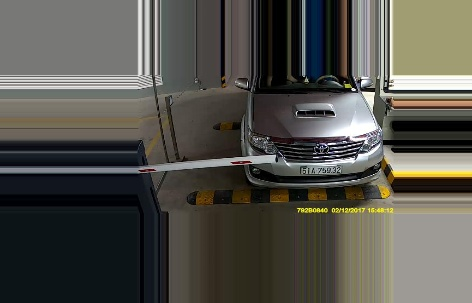plate: (299, 163, 343, 175)
